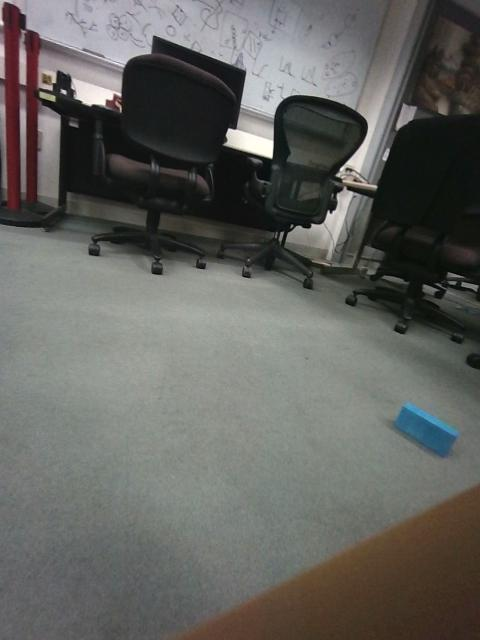block: (187, 336, 247, 369)
